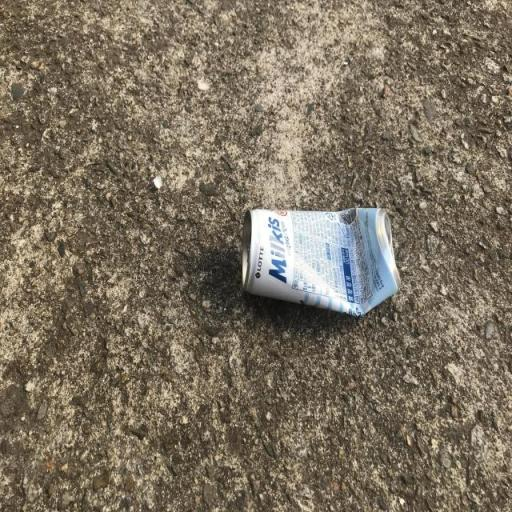metal: (210, 168, 408, 321)
